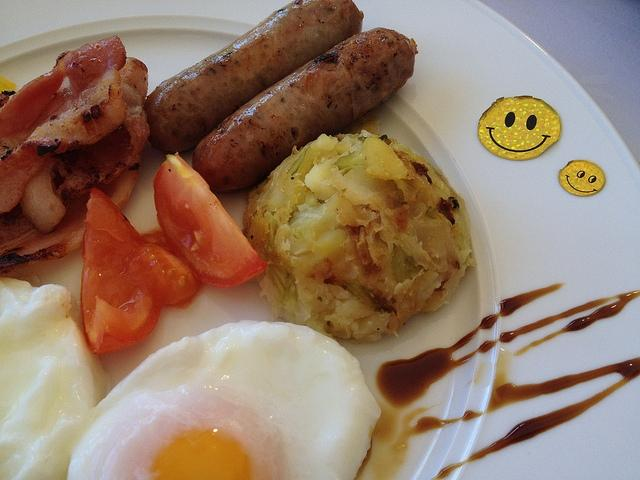tomato: (80, 187, 201, 354), (154, 153, 267, 289)
